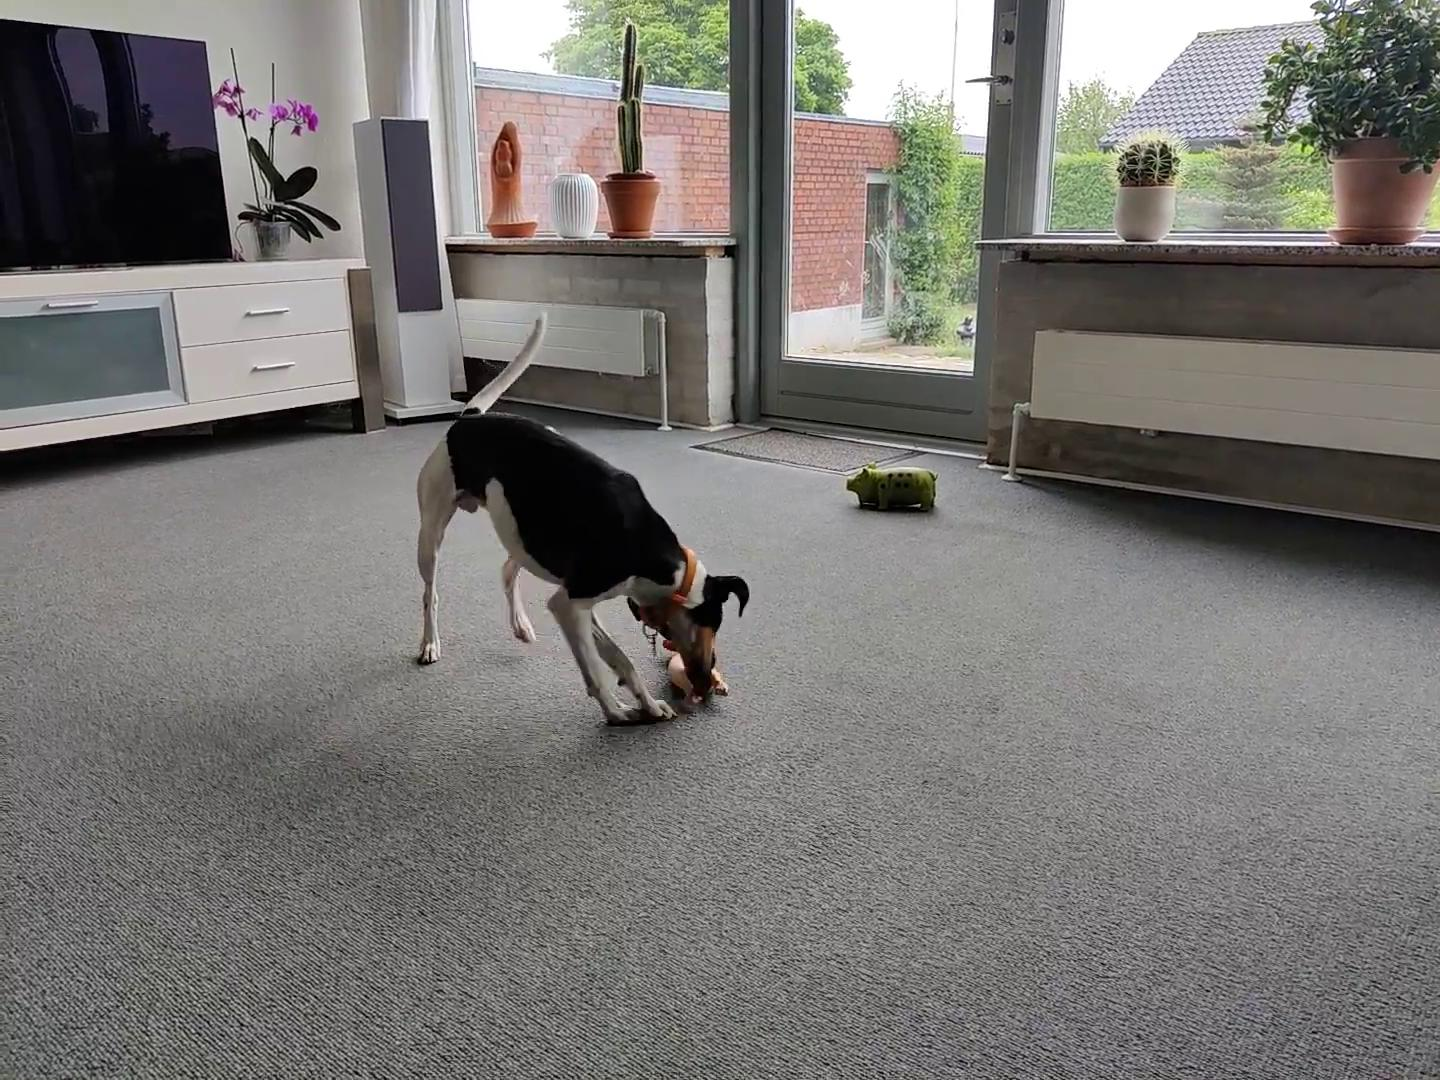Dog: (408, 306, 759, 729)
